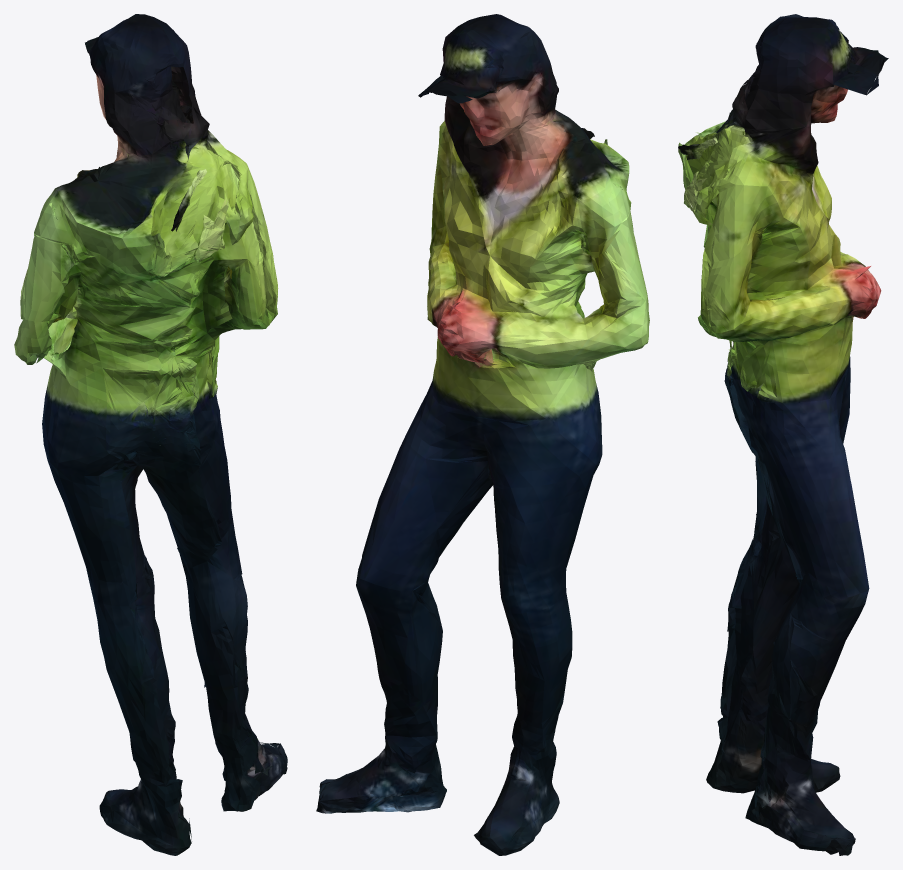
3 views of the same model, side by side, from view 1: azimuth 30°, elevation 25°; view 2: azimuth 150°, elevation 25°; view 3: azimuth 270°, elevation 25° (orthographic). The views are drawn at different scales.
Parts seen in each view (by area): view 1: dec_0014; view 2: dec_0014; view 3: dec_0014.
Part boxes in pixels (x1,y1,x2,y2): dec_0014: (14,14,287,855); dec_0014: (316,14,649,855); dec_0014: (678,14,888,855).
Size of the model in its own units: 0.6792 by 1.76 by 0.4341.
Materials: 1 (1 with a texture image).
